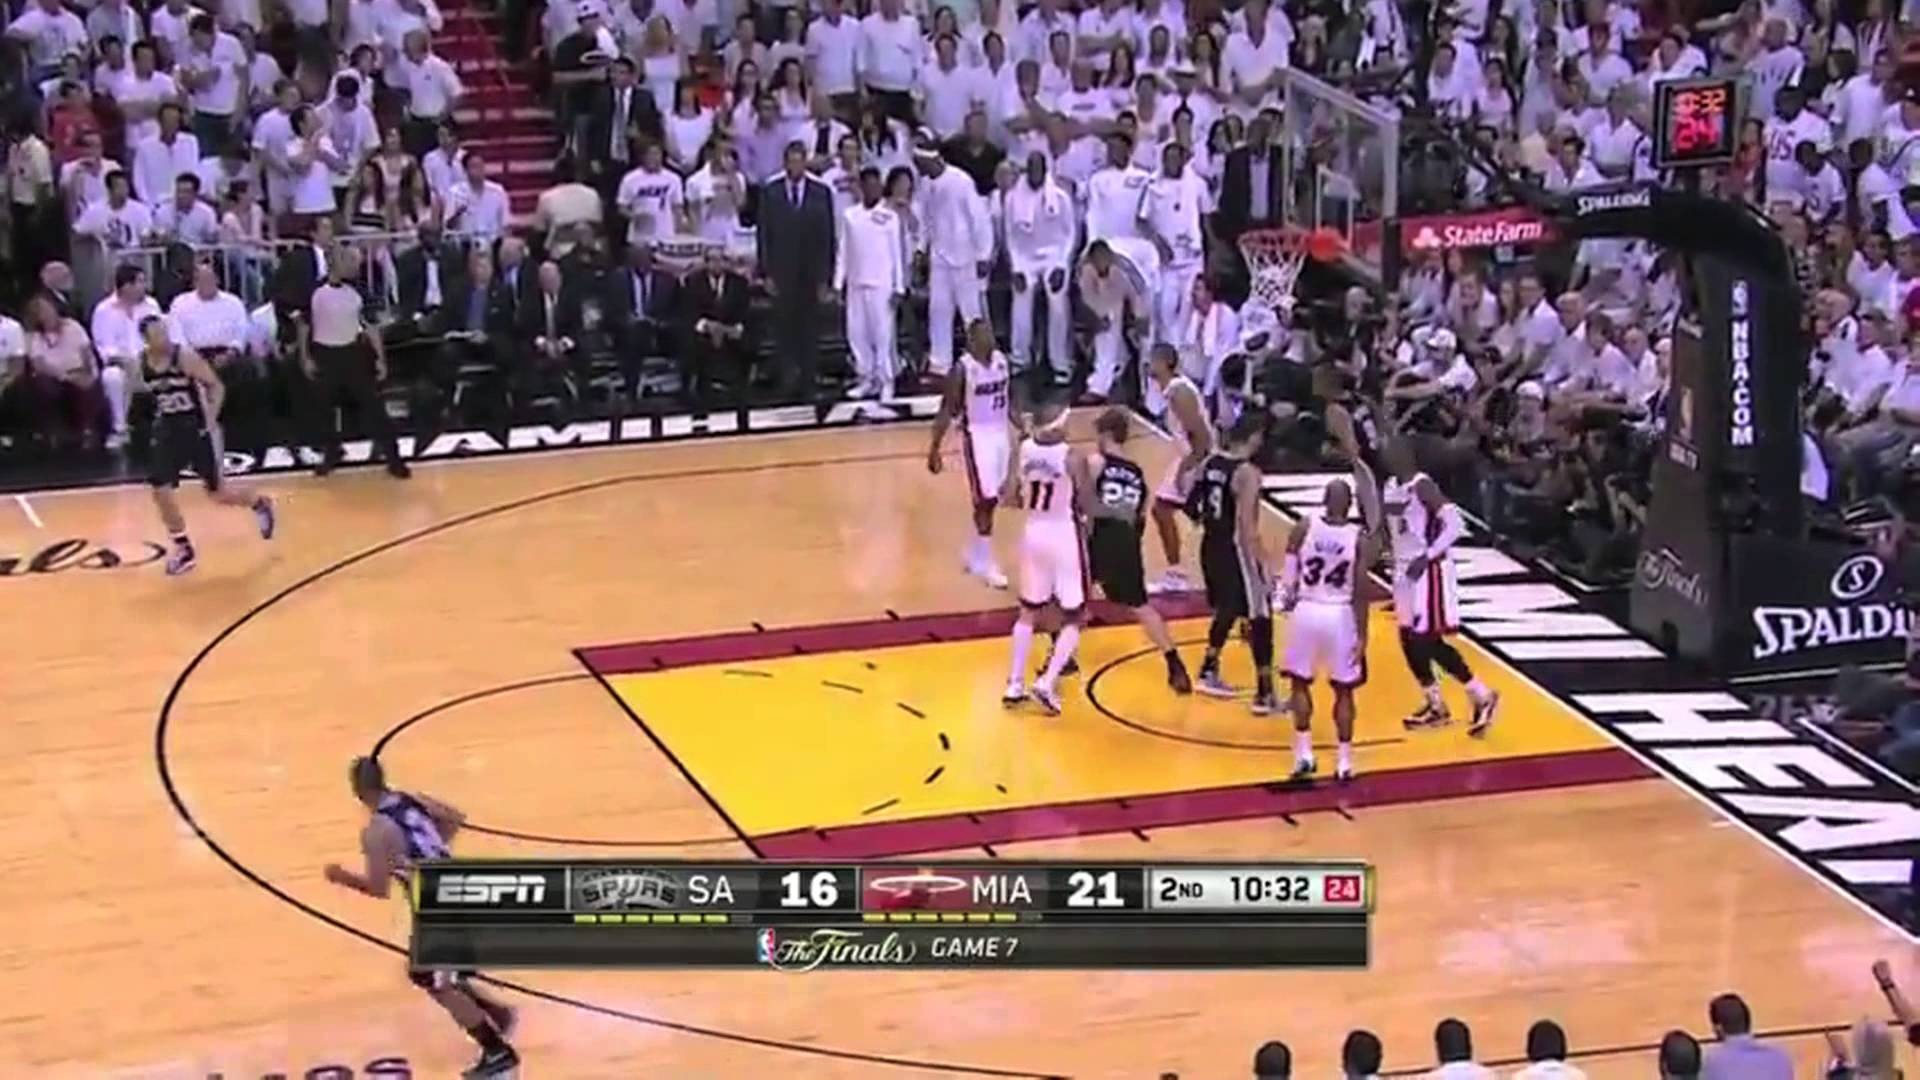basketball player: (311, 719, 557, 1078), (94, 313, 288, 588), (1373, 410, 1494, 787), (1185, 394, 1290, 744), (1279, 473, 1370, 795), (1003, 403, 1094, 724), (917, 305, 1018, 586), (1124, 329, 1211, 604), (1094, 394, 1154, 744)
